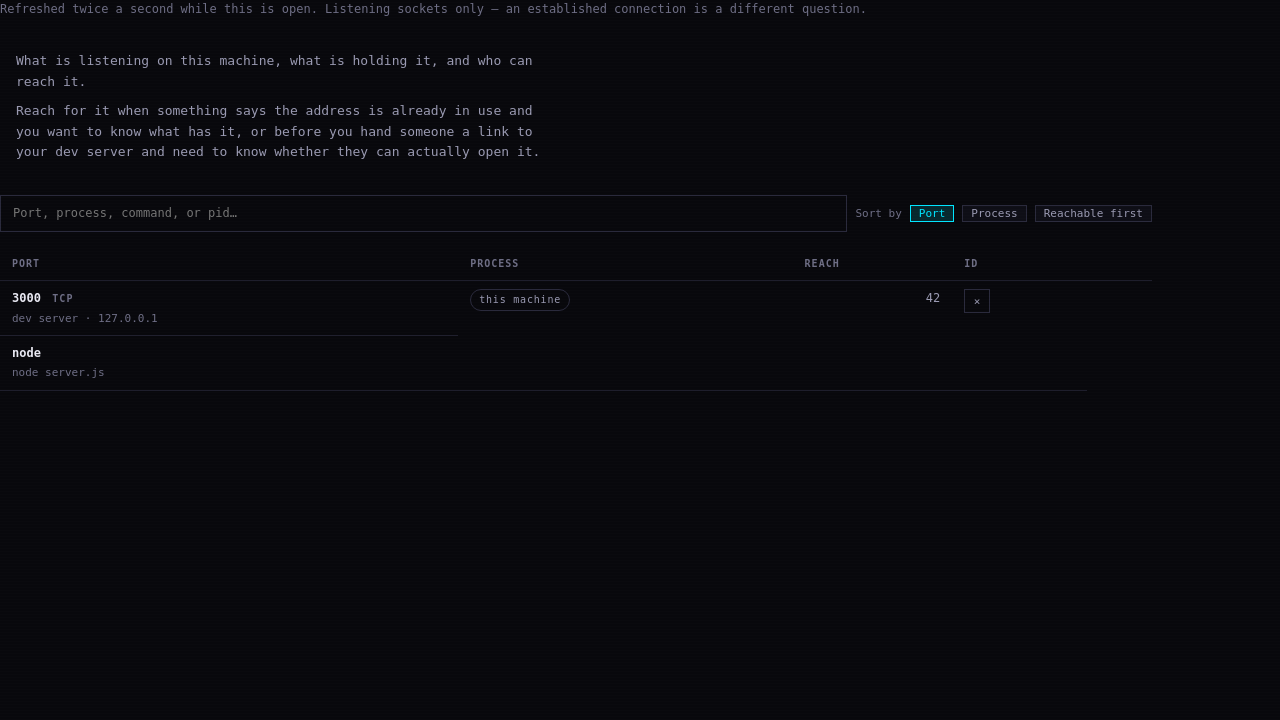
it: PortsTool › asks before it ends anything
expect the text "3000" is shown: met, box 12,291 -> 41,305
Step 1. Click the button named "free port 3000" → {"x": 977, "y": 301}, box 964,289 -> 990,313
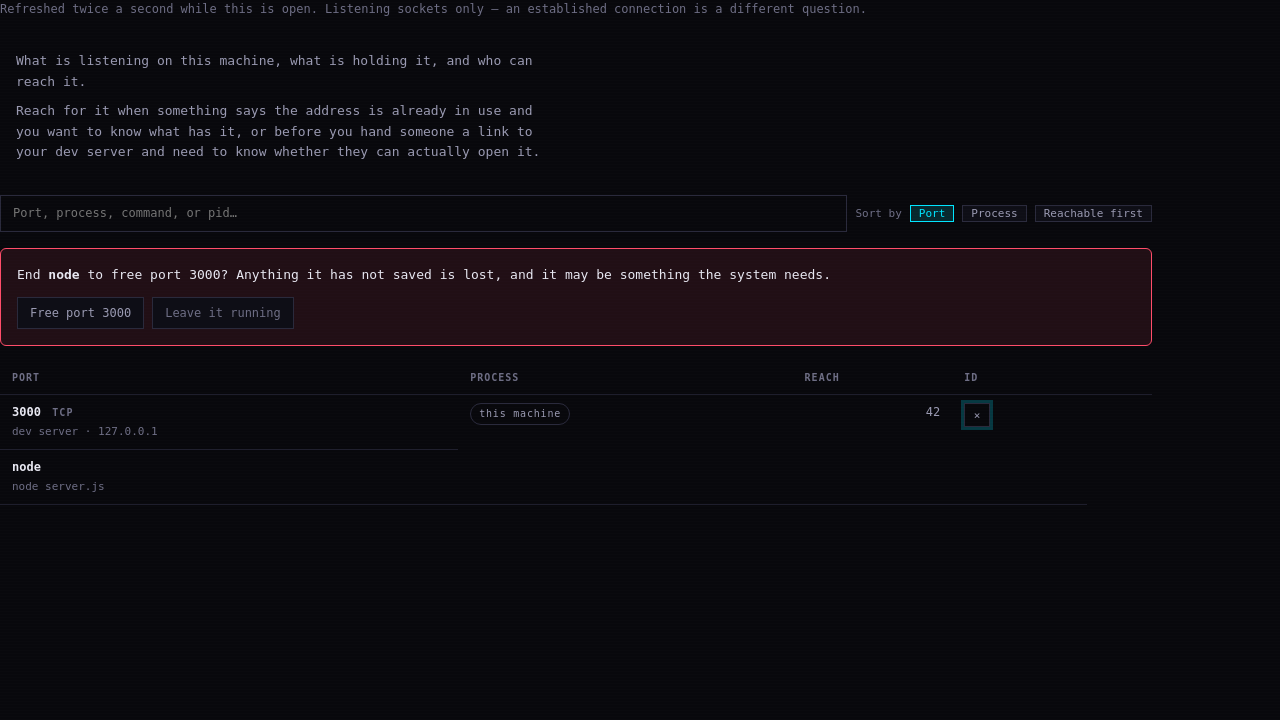
expect the dialog is shown: met, box 0,248 -> 1152,346
